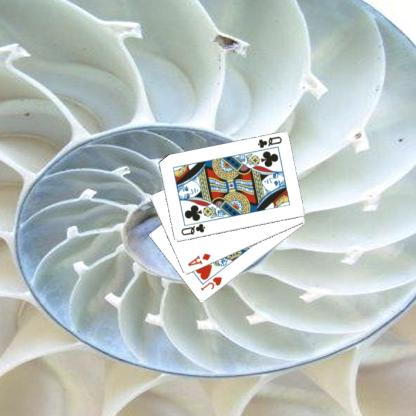AD: (185, 251, 212, 267)
JH: (198, 274, 223, 292)
QC: (178, 221, 206, 237), (255, 134, 283, 150)
